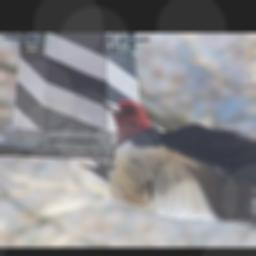Woodpecker: (84, 92, 256, 226)
